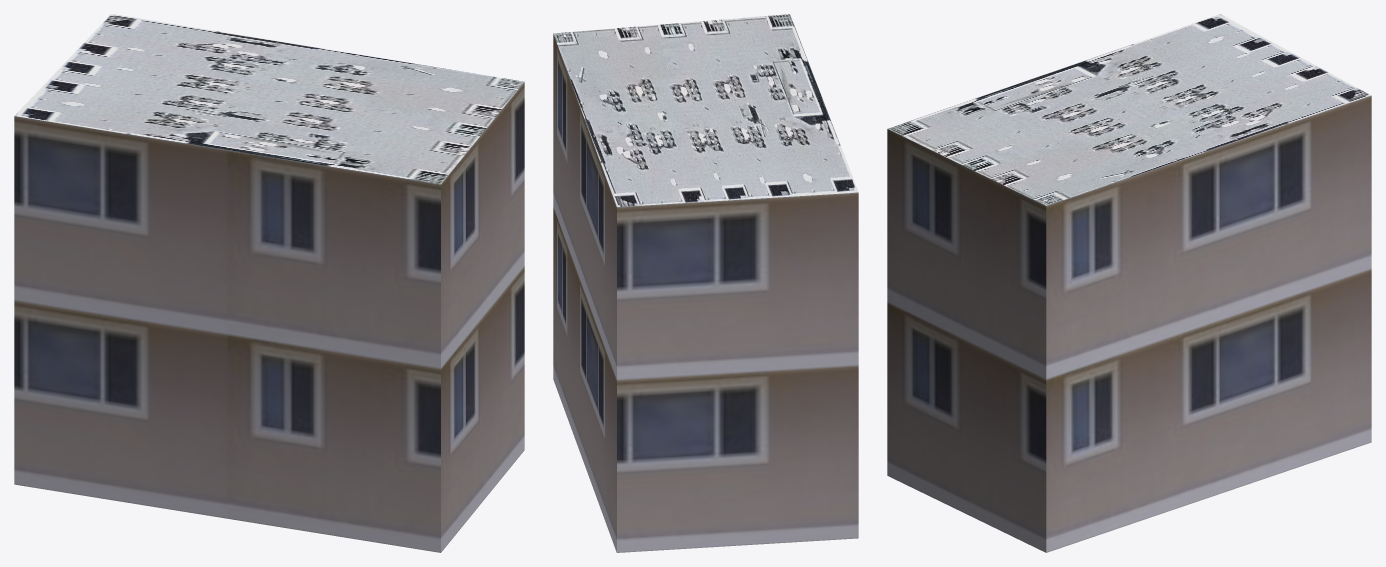
File: ResTex__1535.fbx
3 views of the same model, side by side, from view 1: azimuth 30°, elevation 25°; view 2: azimuth 150°, elevation 25°; view 3: azimuth 270°, elevation 25° (orthographic). The views are drawn at different scales.
Visible parts, largest first — view 1: CityEngineMaterial_21_m, CityEngineMaterial_4_m; view 2: CityEngineMaterial_21_m, CityEngineMaterial_4_m; view 3: CityEngineMaterial_21_m, CityEngineMaterial_4_m.
Boxes of the visible parts, bbox=[...] form: CityEngineMaterial_21_m: bbox=[14, 82, 524, 552]; CityEngineMaterial_4_m: bbox=[15, 14, 524, 184]; CityEngineMaterial_21_m: bbox=[553, 34, 858, 552]; CityEngineMaterial_4_m: bbox=[553, 14, 858, 206]; CityEngineMaterial_21_m: bbox=[887, 95, 1371, 552]; CityEngineMaterial_4_m: bbox=[887, 14, 1370, 205].
Bounding box in the file's own units: 7.12 × 6 × 7.59.
2 materials, 2 textured.
